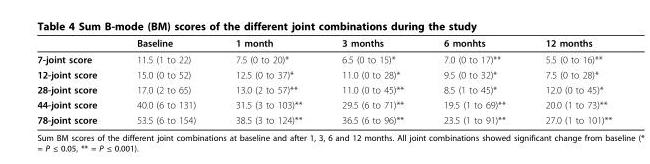table: (36, 36, 611, 125)
table column: (214, 36, 321, 125), (321, 36, 423, 125), (423, 36, 524, 125), (116, 36, 214, 125), (524, 36, 611, 125), (36, 36, 116, 125)
table column header: (36, 36, 611, 50)
table row: (36, 50, 611, 66), (36, 66, 611, 81), (36, 81, 611, 96), (36, 96, 611, 111), (36, 36, 611, 50), (36, 111, 611, 125)
